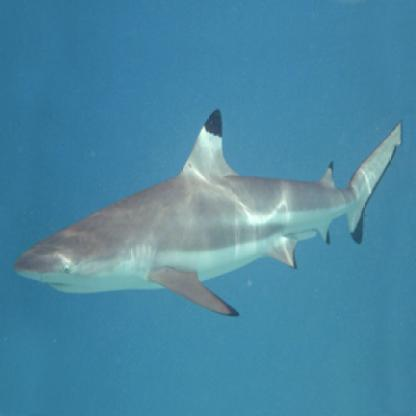Shark -Selachimorpha-: (13, 109, 403, 319)
